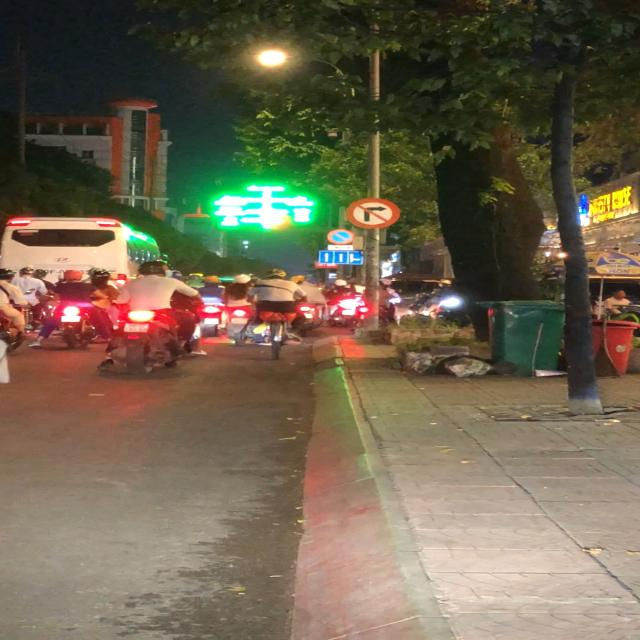Bien bao cam do xe: (326, 228, 355, 245)
Bien bao cam re phai: (341, 198, 401, 230)
